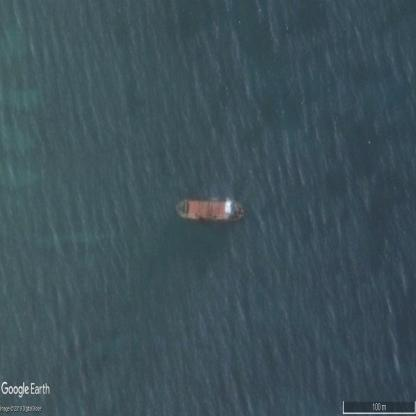ship: (176, 200, 244, 220)
